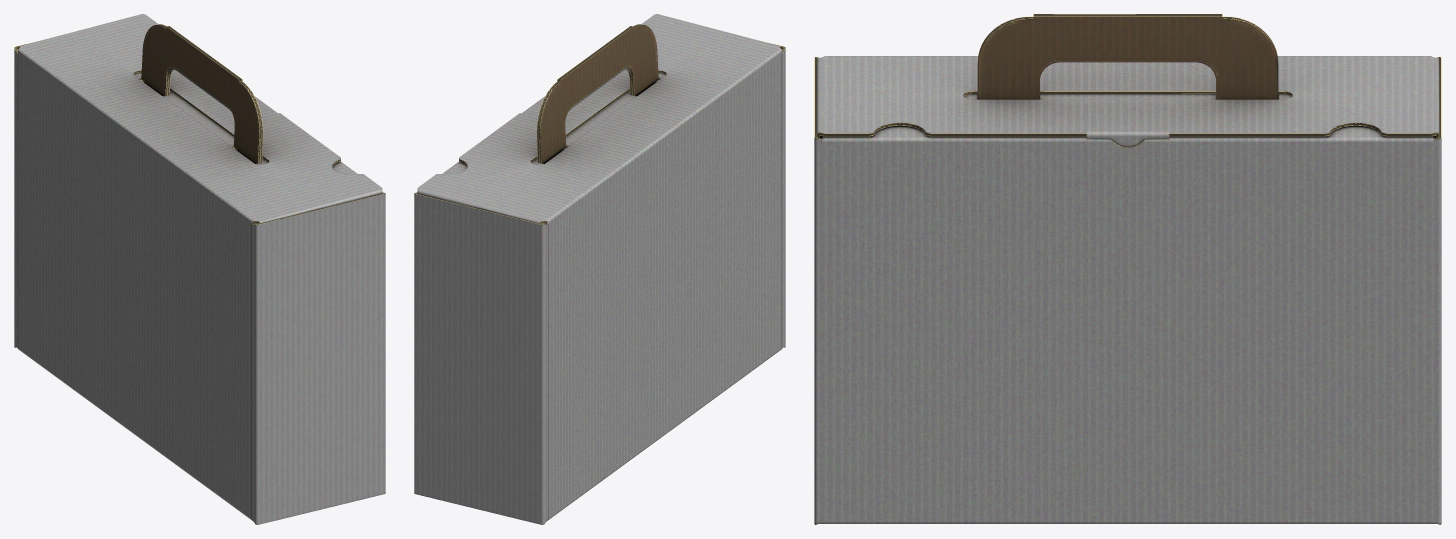
The picture shows the model from 3 angles, left to right: view 1: azimuth 30°, elevation 25°; view 2: azimuth 150°, elevation 25°; view 3: azimuth 270°, elevation 25°; orthographic projection. The views are drawn at different scales.
Visible parts, largest first — view 1: TQ_ARD-node; view 2: TQ_ARD-node; view 3: TQ_ARD-node.
Part boxes in pixels (box(x1,y1,x2,y2)): TQ_ARD-node: box(14, 14, 385, 524); TQ_ARD-node: box(414, 14, 785, 524); TQ_ARD-node: box(814, 14, 1441, 524).
Bounding box in the file's own units: 0.0936 × 0.2515 × 0.3026.
3 materials, 3 textured.
